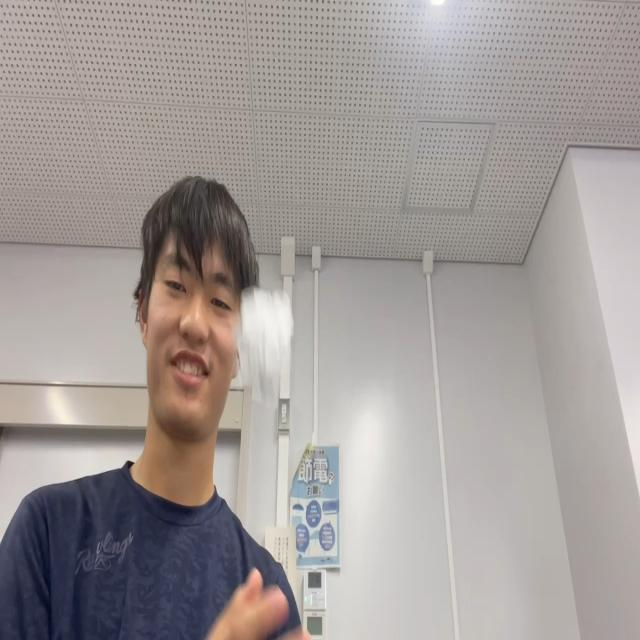paper: (240, 292, 296, 394)
